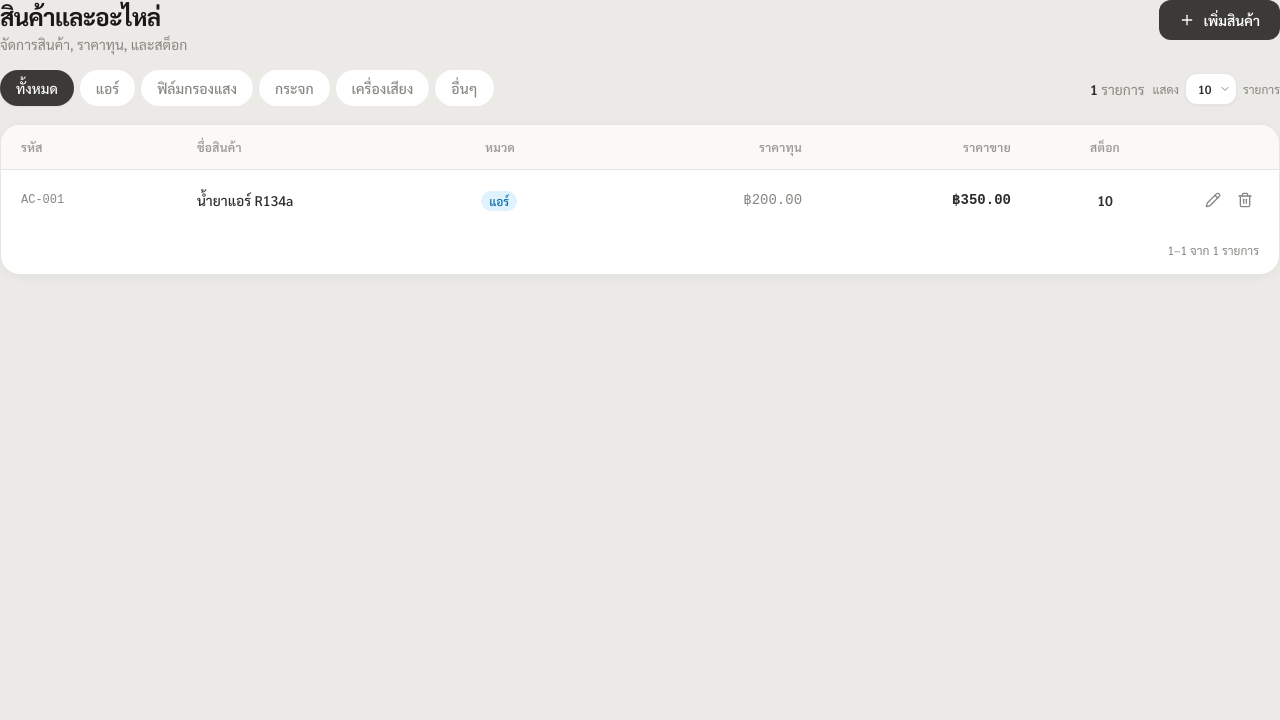
Test case: ProductsPage › opens edit modal with product data when pencil button clicked
The image size is (1280, 720).
Step 1. Click the button titled "แก้ไข" → (1213, 200), box x1=1199 y1=186 x2=1227 y2=214
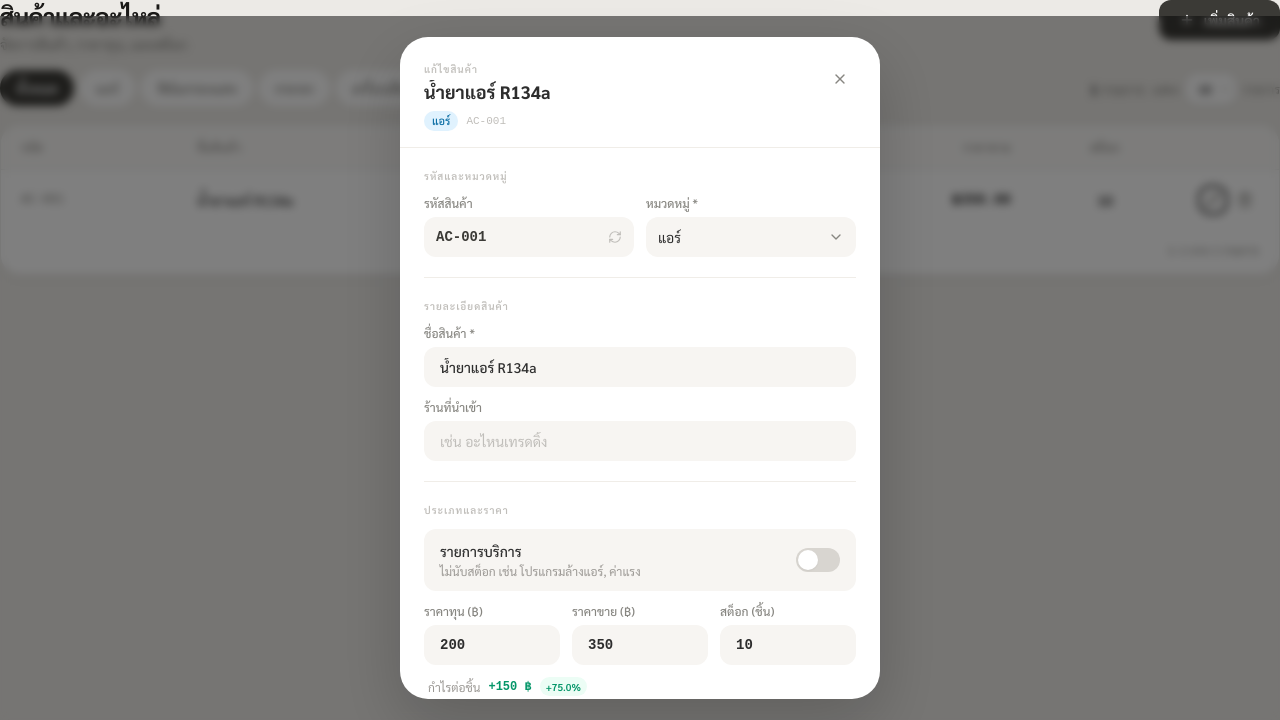
Now the text "แก้ไขสินค้า" is shown, box x1=424 y1=62 x2=478 y2=75
